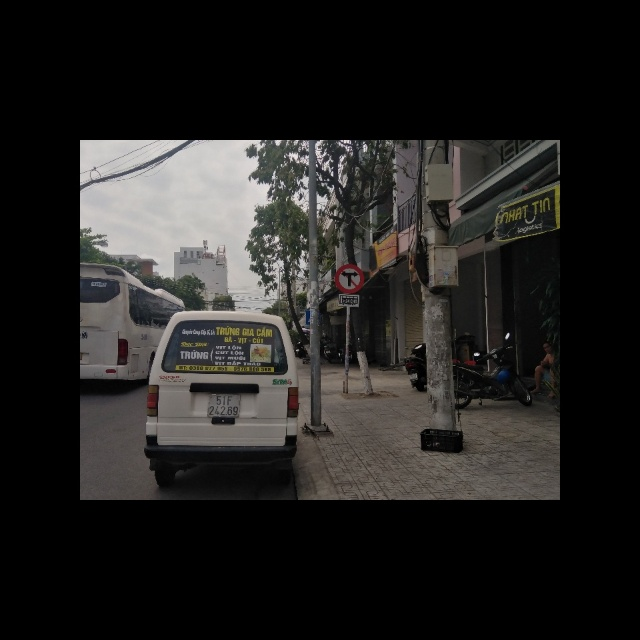Cấm rẽ trái và rẽ phải: (334, 265, 364, 293)
